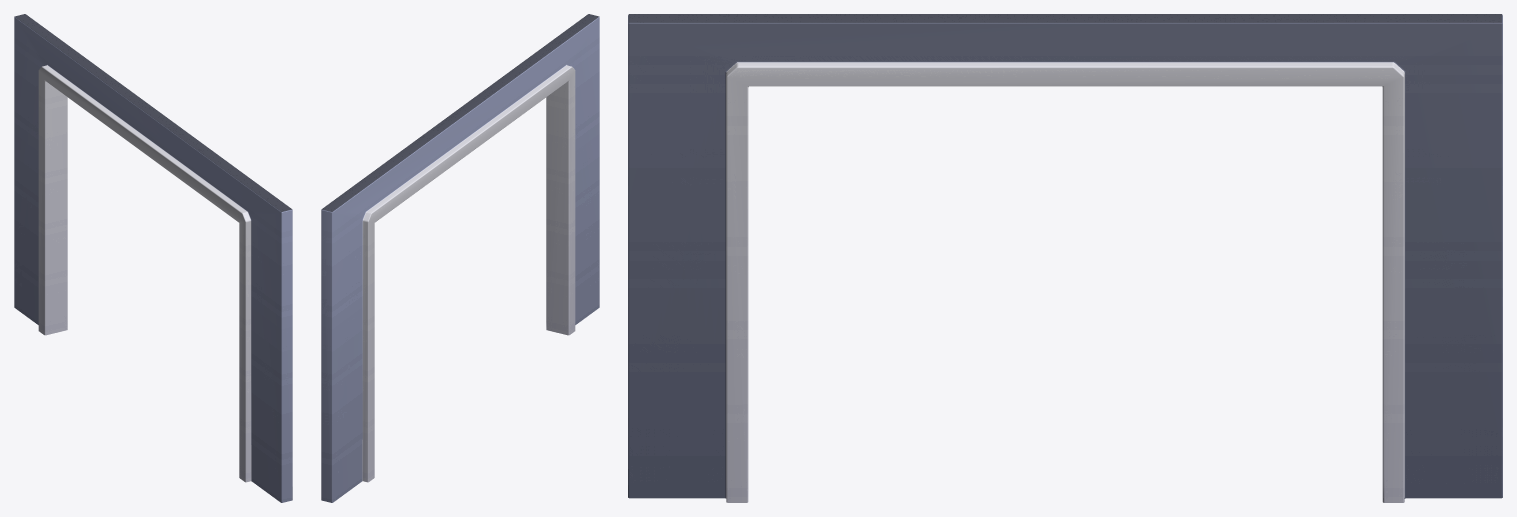
File: wall-doorway-wide-square.glb
3 views of the same model, side by side, from view 1: azimuth 30°, elevation 25°; view 2: azimuth 150°, elevation 25°; view 3: azimuth 270°, elevation 25° (orthographic). The views are drawn at different scales.
Visible parts, largest first — view 1: wall-doorway-wide-square; view 2: wall-doorway-wide-square; view 3: wall-doorway-wide-square.
Part boxes in pixels (bbox=[...]): wall-doorway-wide-square: bbox=[14, 14, 292, 502]; wall-doorway-wide-square: bbox=[321, 14, 599, 502]; wall-doorway-wide-square: bbox=[628, 14, 1502, 502].
Size of the model in its own units: 0.2 by 2.4 by 4.
Materials: 1 (1 with a texture image).
